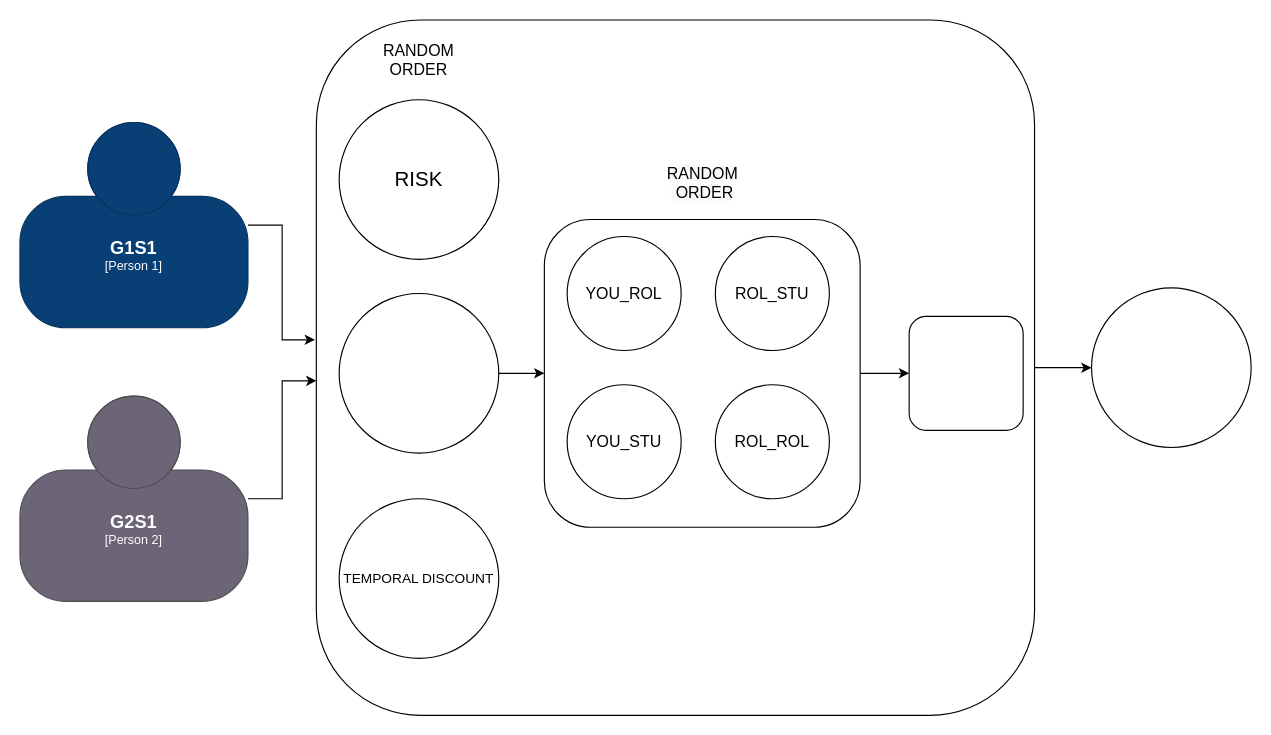
This 1271x735 diagram has some shape labels left out. Each missing label, with the box of its shape:
END: (1090, 287, 1251, 447)
PROSOCIAL: (338, 292, 499, 453)
SURVEY: (908, 315, 1023, 430)
